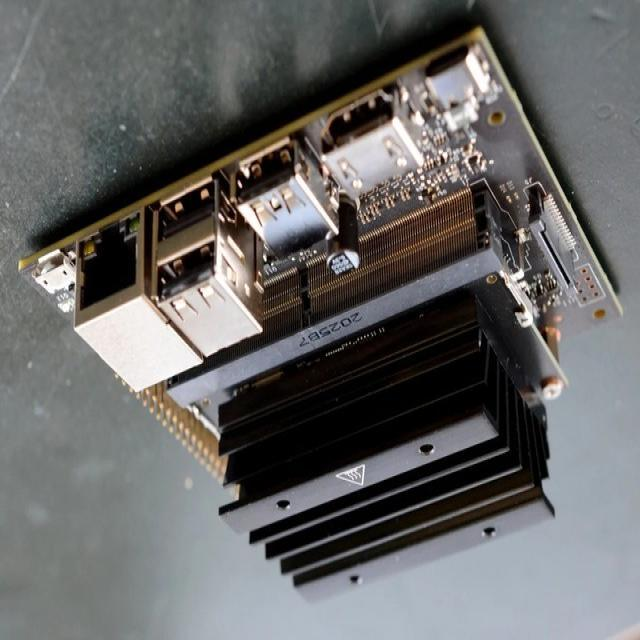Jetson Nano: (19, 30, 624, 608)
